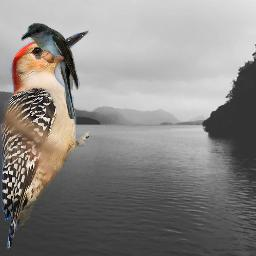Cuckoo: (21, 23, 80, 119)
Woodpecker: (1, 29, 89, 249)
